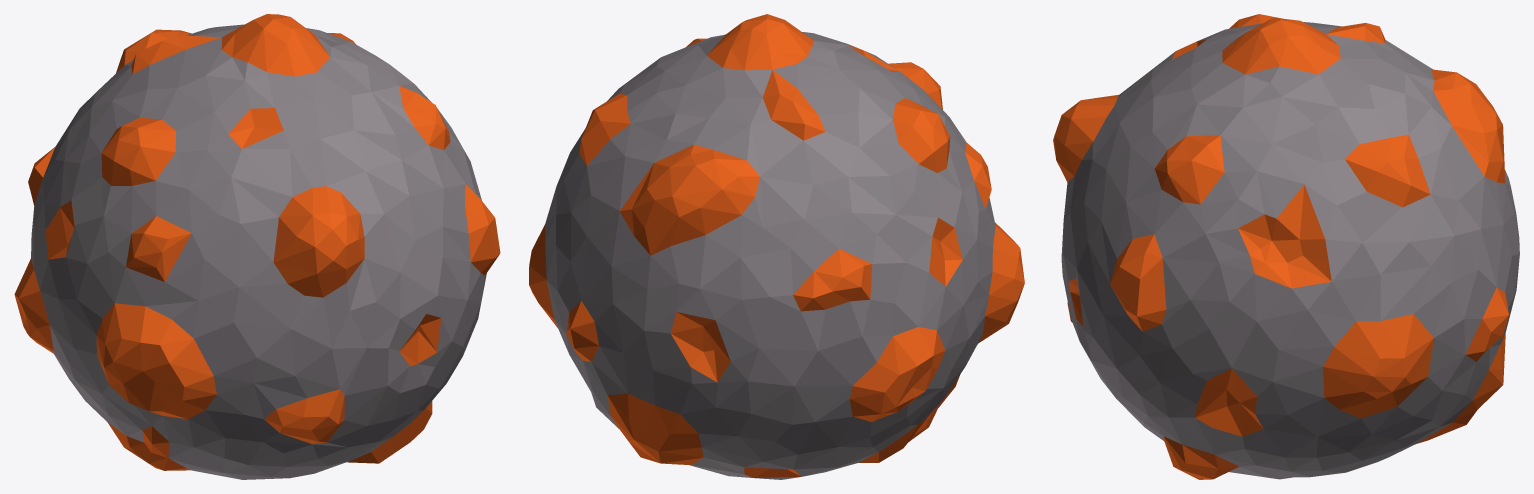
File: planet_2.fbx
3 views of the same model, side by side, from view 1: azimuth 30°, elevation 25°; view 2: azimuth 150°, elevation 25°; view 3: azimuth 270°, elevation 25° (orthographic).
Parts seen in each view (by area): view 1: planet_2; view 2: planet_2; view 3: planet_2.
Boxes of the visible parts, left/top/right/bottom form: planet_2: left=14, top=14, right=500, bottom=479; planet_2: left=529, top=14, right=1024, bottom=479; planet_2: left=1053, top=14, right=1519, bottom=479.
Size of the model in its own units: 596 by 599 by 622.
